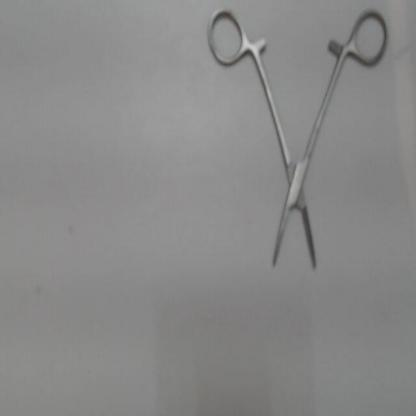Mayo Needle Holder: (202, 2, 395, 280)
